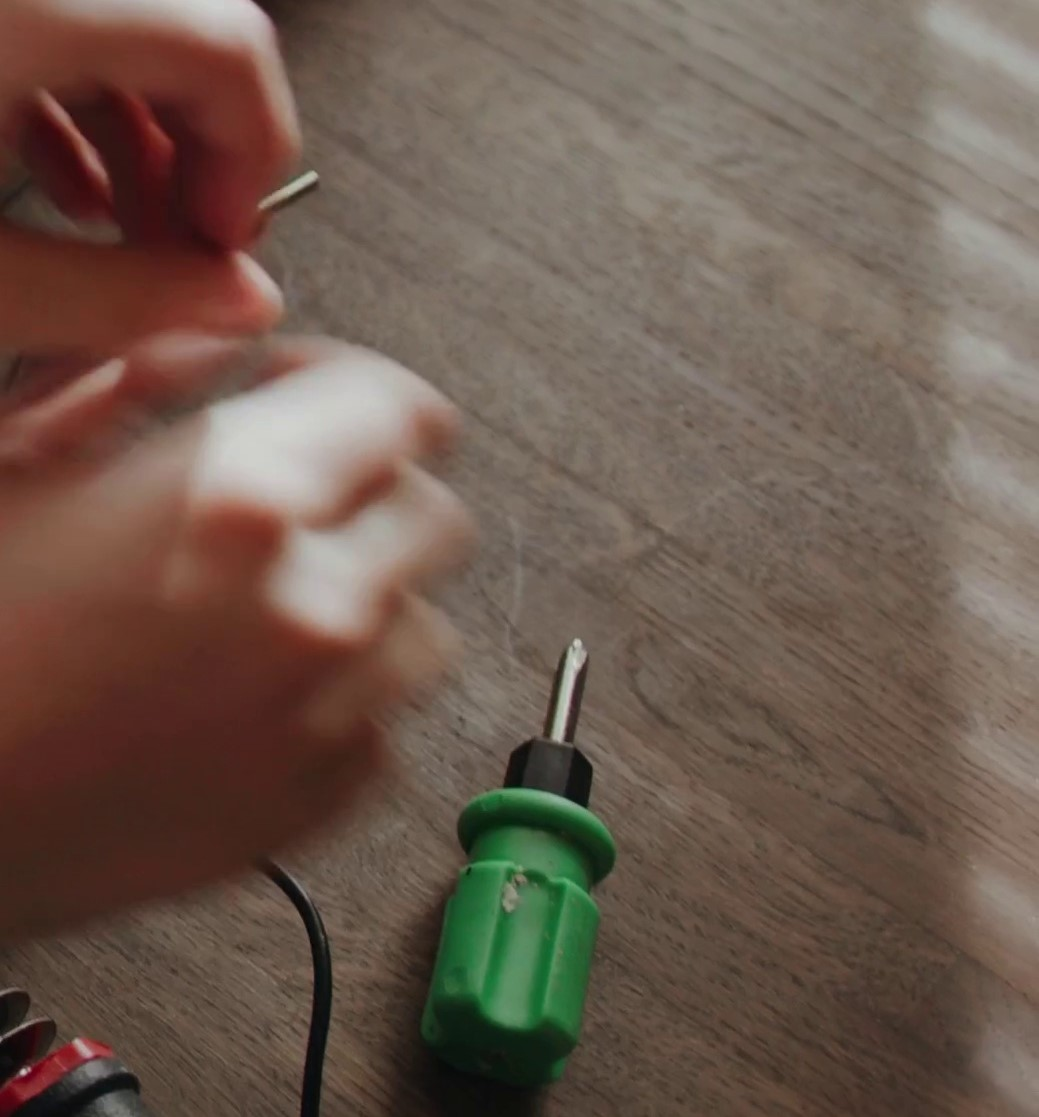screwdriver: (415, 635, 622, 1090)
